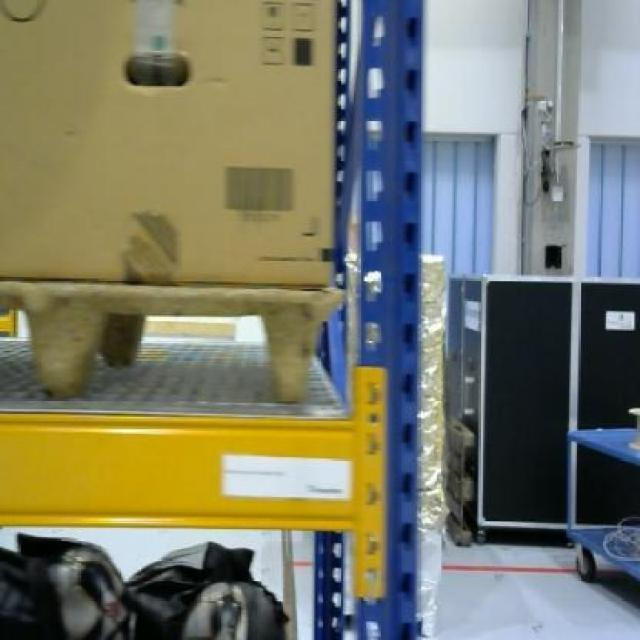box: (0, 0, 335, 284)
